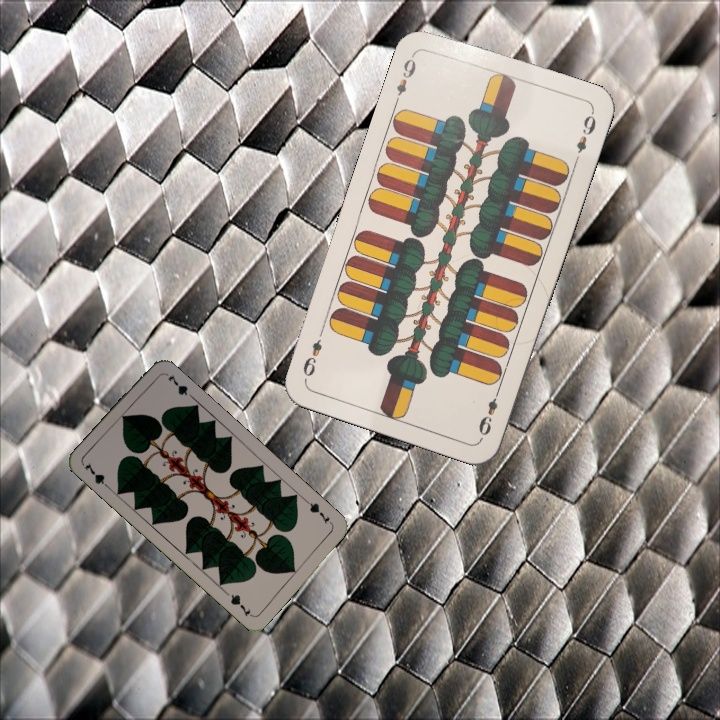E9: (391, 49, 419, 106), (474, 384, 503, 439)
G7: (80, 458, 114, 492), (302, 496, 335, 528)
